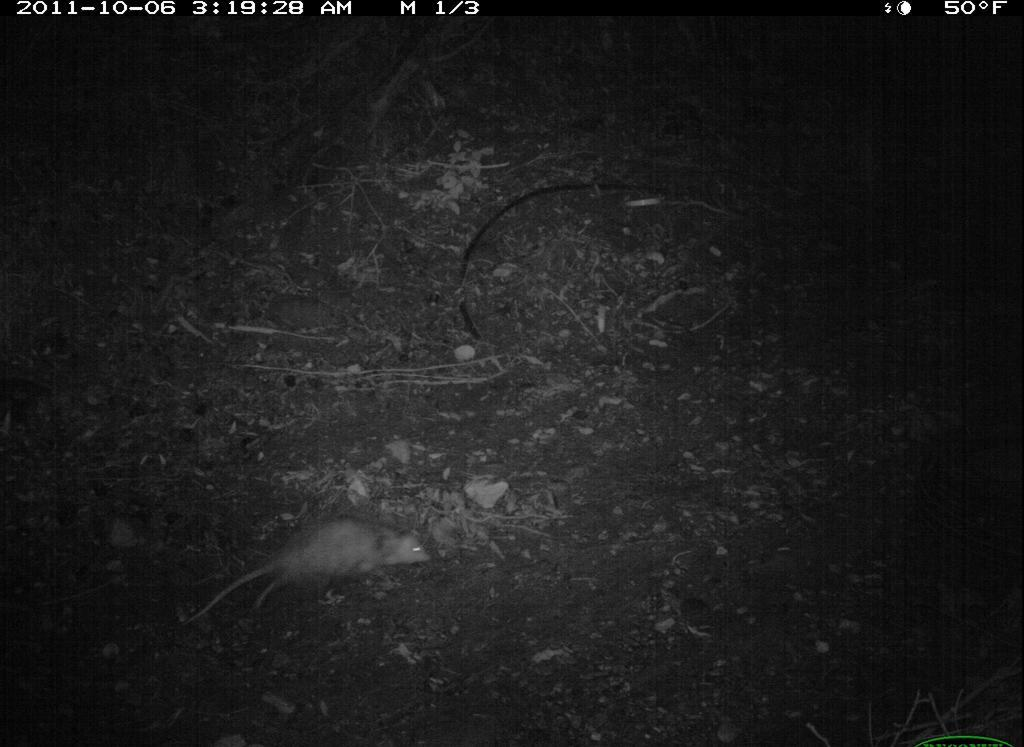opossum: (203, 510, 437, 625)
